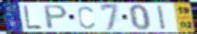0: (127, 4, 154, 32)
7: (99, 3, 120, 32)
C: (76, 5, 96, 30)
I: (156, 4, 168, 31)
L: (22, 5, 44, 30)
P: (43, 4, 70, 31)
